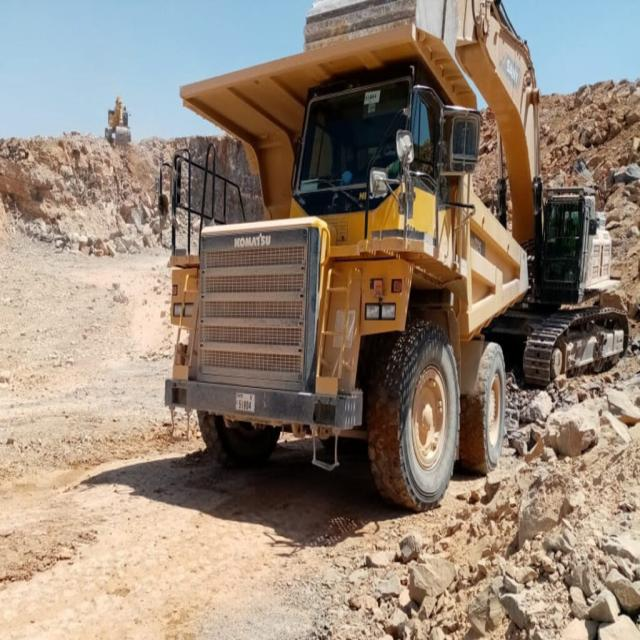dump_truck: (168, 78, 530, 491)
excavator: (492, 13, 631, 374), (108, 100, 134, 154)
